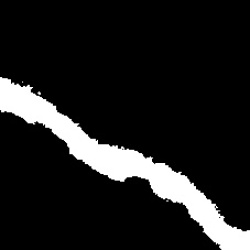crack: (1, 78, 241, 245)
